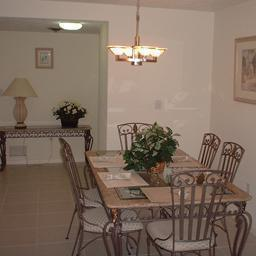Matera: (123, 129, 175, 172), (58, 102, 82, 132)
